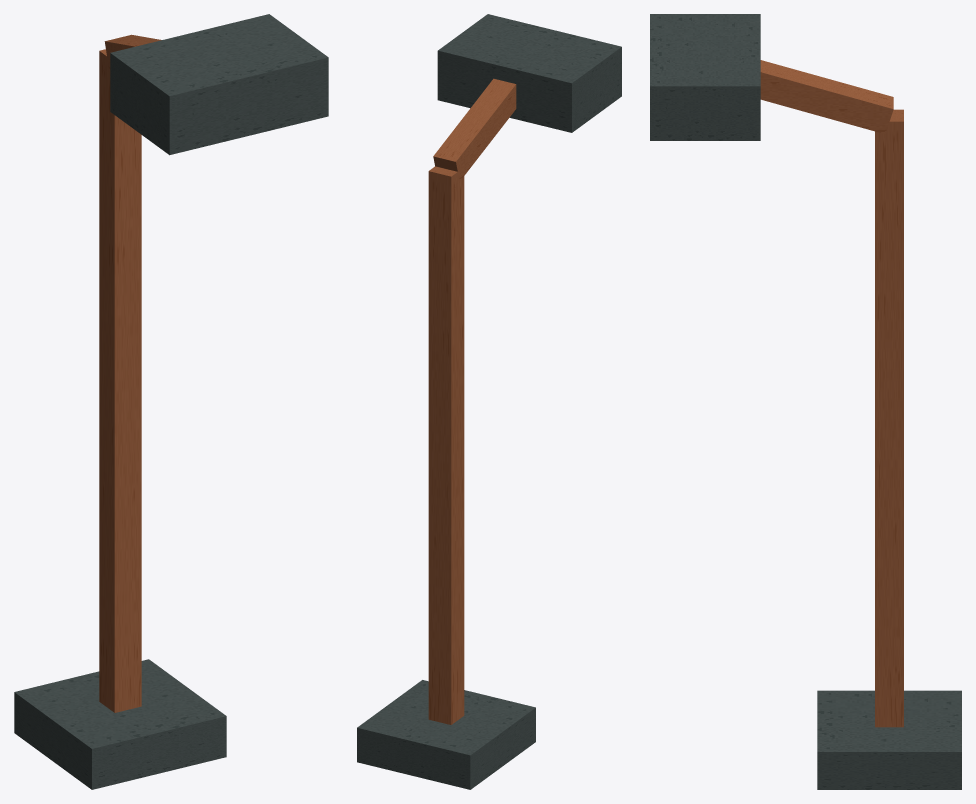
File: WorkLamp.fbx
3 views of the same model, side by side, from view 1: azimuth 30°, elevation 25°; view 2: azimuth 150°, elevation 25°; view 3: azimuth 270°, elevation 25° (orthographic). The views are drawn at different scales.
Parts seen in each view (by area): view 1: WorkLamp; view 2: WorkLamp; view 3: WorkLamp.
Part boxes in pixels (x1,y1,x2,y2): WorkLamp: [14, 14, 328, 789]; WorkLamp: [357, 14, 621, 789]; WorkLamp: [650, 14, 961, 789].
Size of the model in its own units: 65 by 298 by 118.
